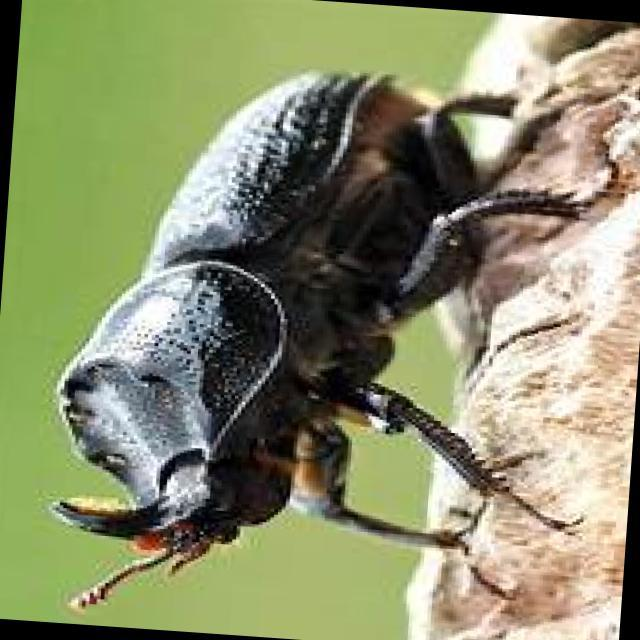Rhino-beetle: (26, 70, 531, 558)
